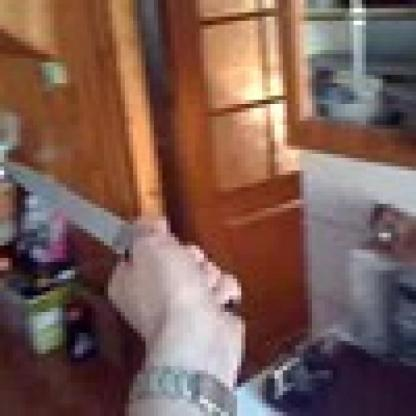Knife: (0, 154, 146, 270)
